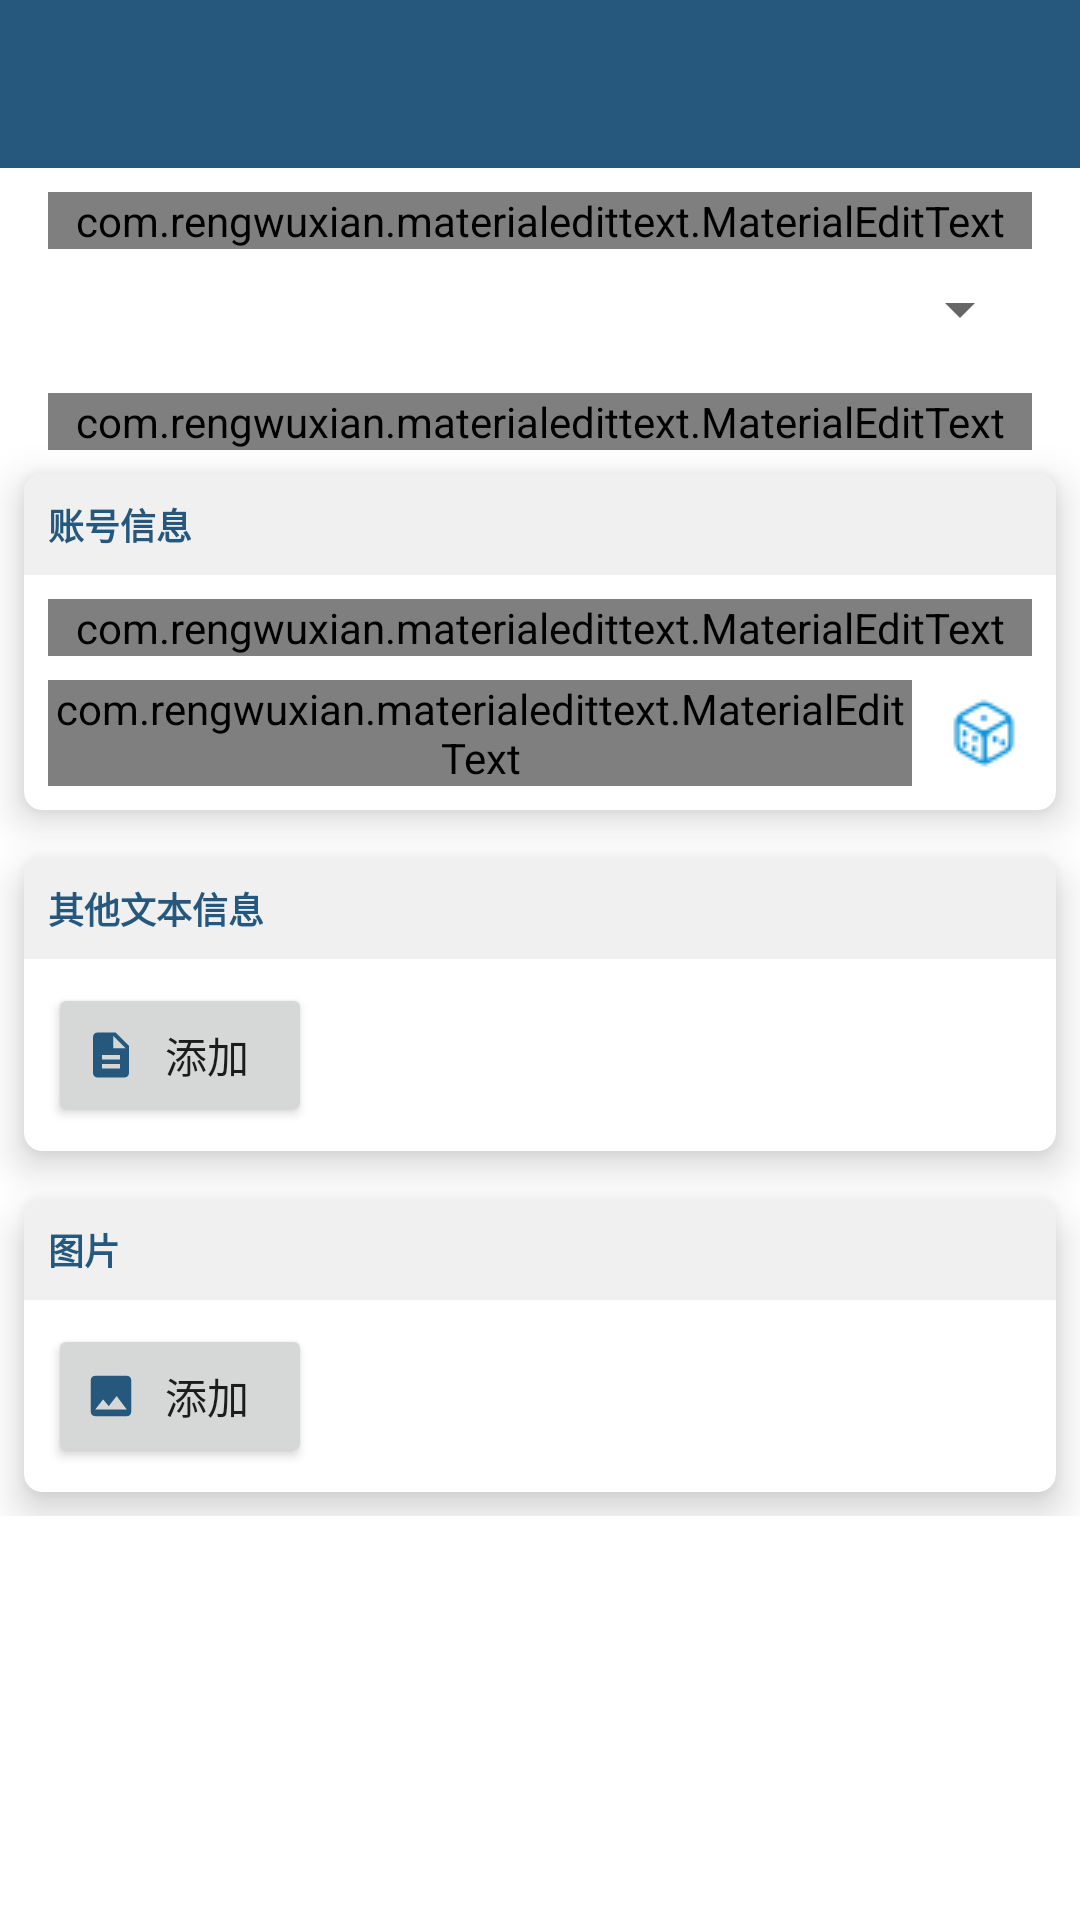

Named icons in this screenshot (1080px x 1920px) and their bounding boxes, (x1, y1, x2, y2):
random pwd: (953, 699, 1015, 767)
